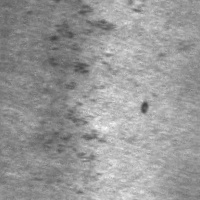rolled-in_scale: (41, 5, 121, 163)
